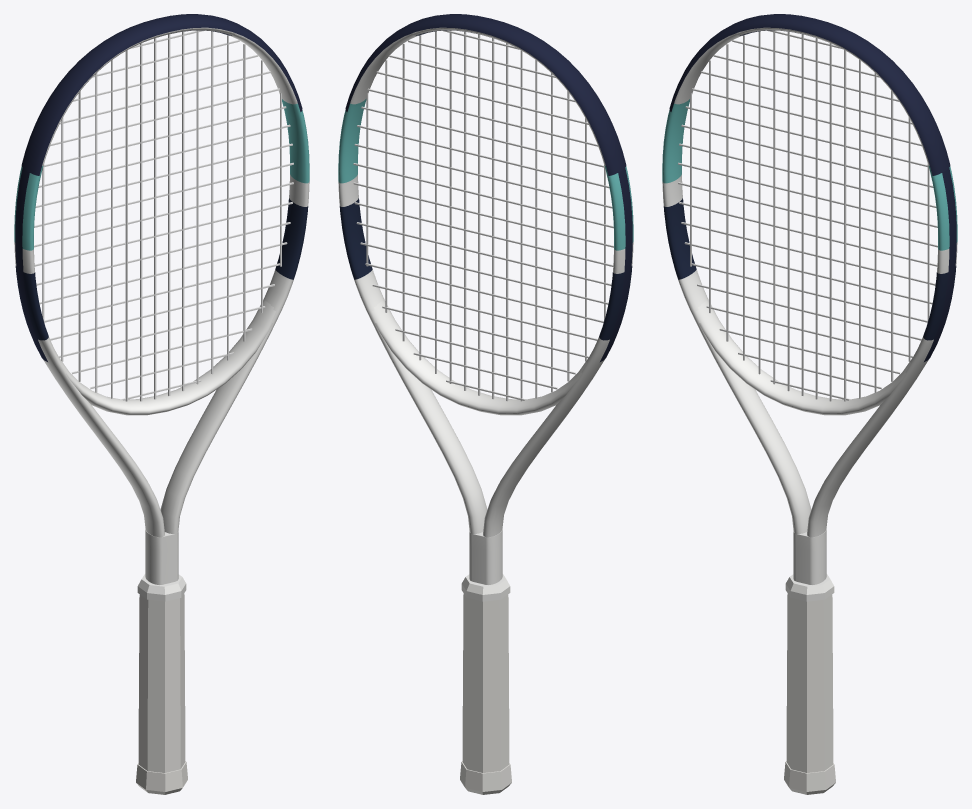
File: babolat-evo-drive-2025--white.glb
3 views of the same model, side by side, from view 1: azimuth 30°, elevation 25°; view 2: azimuth 150°, elevation 25°; view 3: azimuth 330°, elevation 25° (orthographic).
Visible parts, largest first — view 1: frame, strings_mains, strings_crosses, grip, bumper, grommets, butt_cap, collar; view 2: frame, strings_mains, strings_crosses, grip, bumper, grommets, butt_cap, collar; view 3: frame, strings_mains, strings_crosses, grip, bumper, grommets, butt_cap, collar.
Part boxes in pixels (<box>): frame: <box>14,27,309,584</box>; strings_mains: <box>42,30,281,401</box>; strings_crosses: <box>34,30,293,400</box>; grip: <box>138,593,185,772</box>; bumper: <box>21,14,302,175</box>; grommets: <box>15,168,47,361</box>; butt_cap: <box>136,761,187,794</box>; collar: <box>137,574,186,601</box>; frame: <box>338,27,633,584</box>; strings_mains: <box>366,30,605,401</box>; strings_crosses: <box>353,30,613,400</box>; grip: <box>462,593,509,772</box>; bumper: <box>345,14,626,175</box>; grommets: <box>600,168,632,361</box>; butt_cap: <box>460,761,511,794</box>; collar: <box>461,574,510,601</box>; frame: <box>662,27,957,584</box>; strings_mains: <box>690,30,929,401</box>; strings_crosses: <box>678,30,937,400</box>; grip: <box>786,593,833,772</box>; bumper: <box>669,14,950,175</box>; grommets: <box>924,168,956,361</box>; butt_cap: <box>784,761,835,794</box>; collar: <box>785,574,834,601</box>.
Size of the model in its own units: 0.2702 by 0.6861 by 0.0396.
